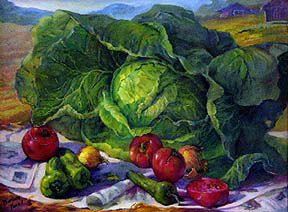cabbage: (11, 1, 287, 192)
